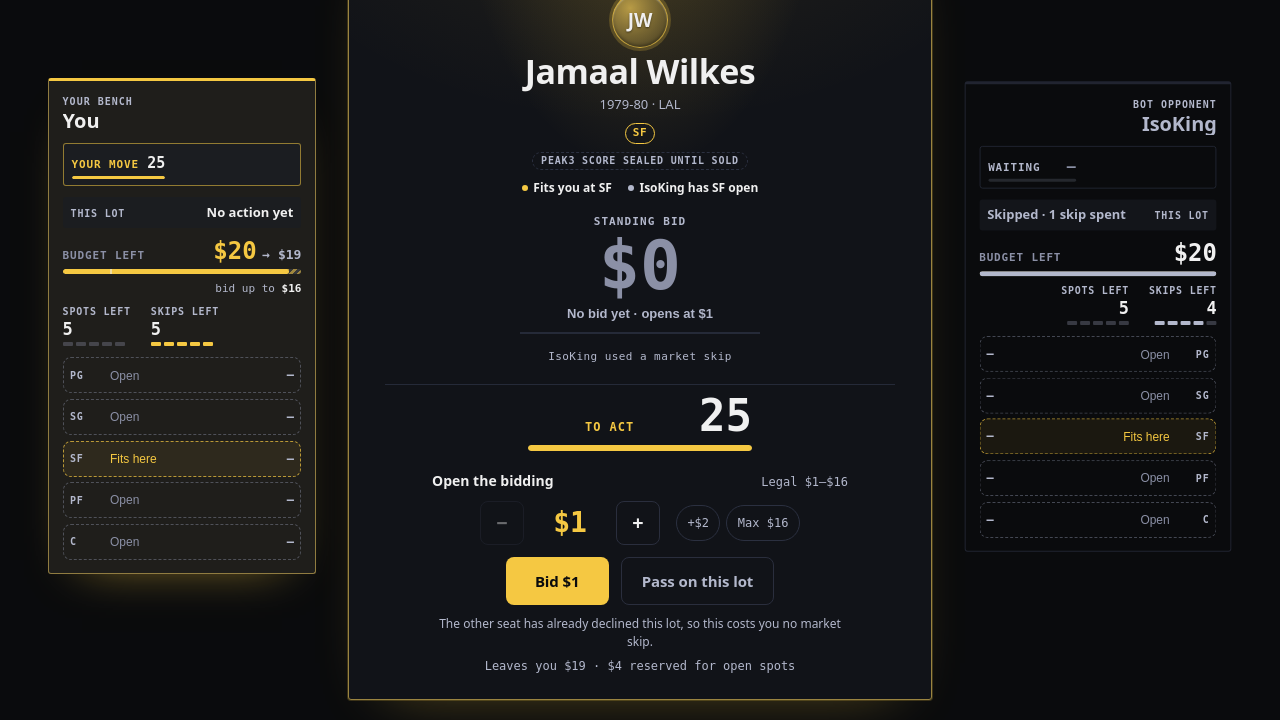
Test: stale responses › drops an OLDER poll that lands after a newer command response
(page scrolled)
Click the button with test id "td-submit-bid". click: point(557, 581)
box: x1=506 y1=557 x2=609 y2=605
(page scrolled)
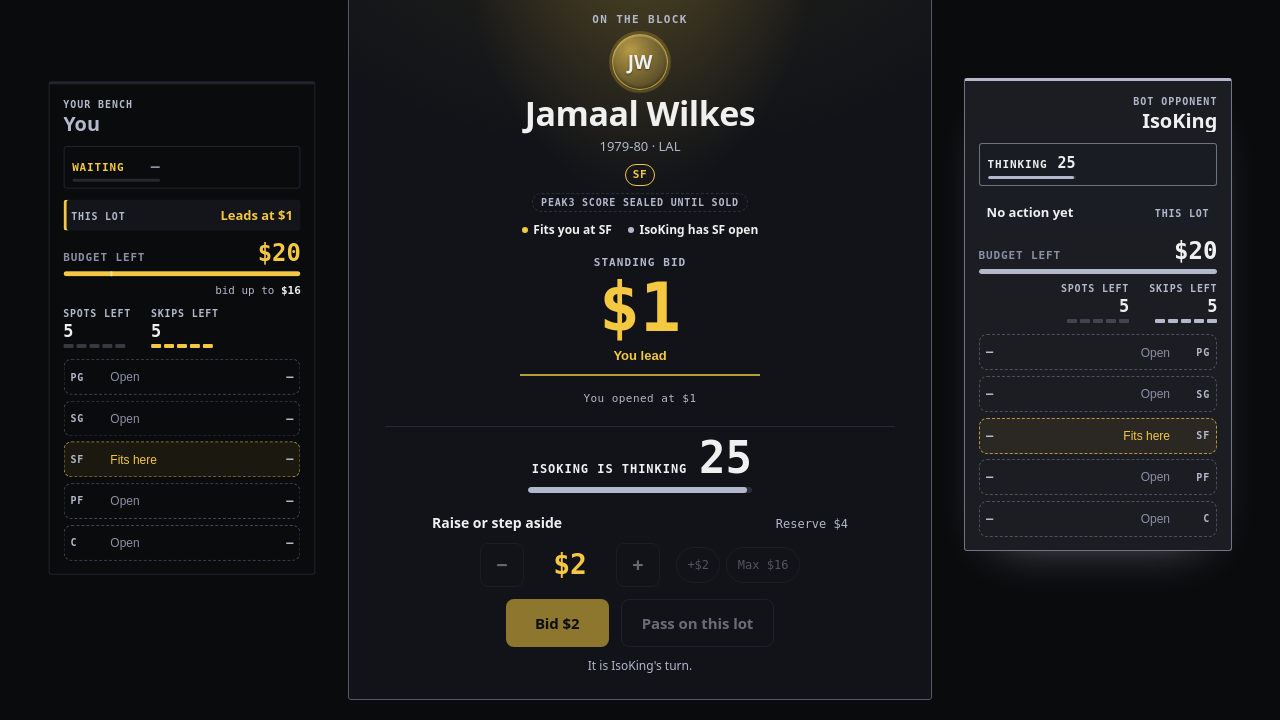
Expected: the text with test id "td-standing-amount" reads "$1", x1=599 y1=268 x2=681 y2=347
Expected: the text with test id "td-standing-holder" reads "You lead", x1=613 y1=348 x2=667 y2=363
